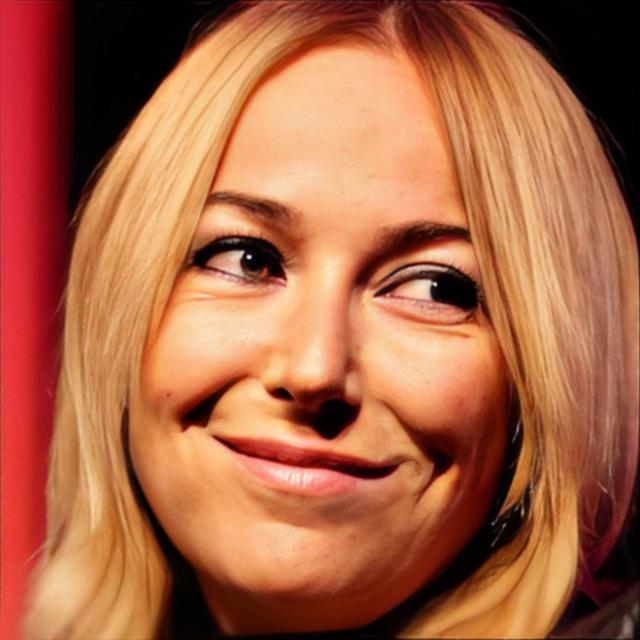content: (124, 38, 510, 602)
